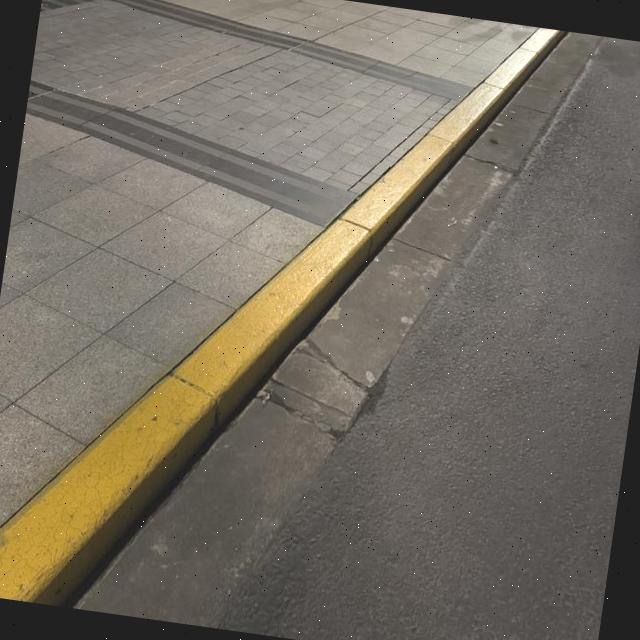curb: (0, 28, 562, 605)
